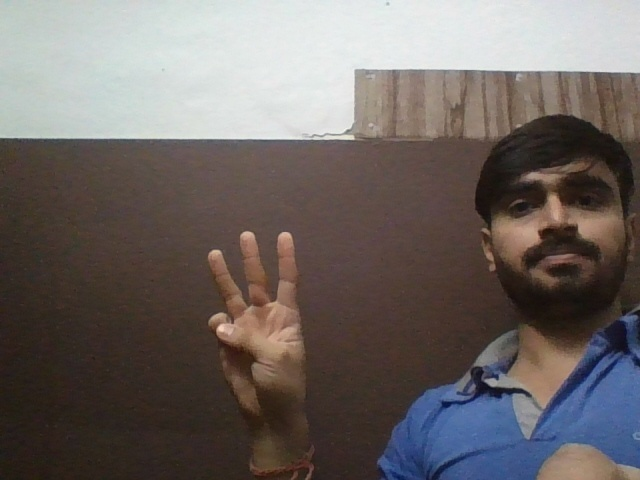W: (205, 223, 318, 419)
